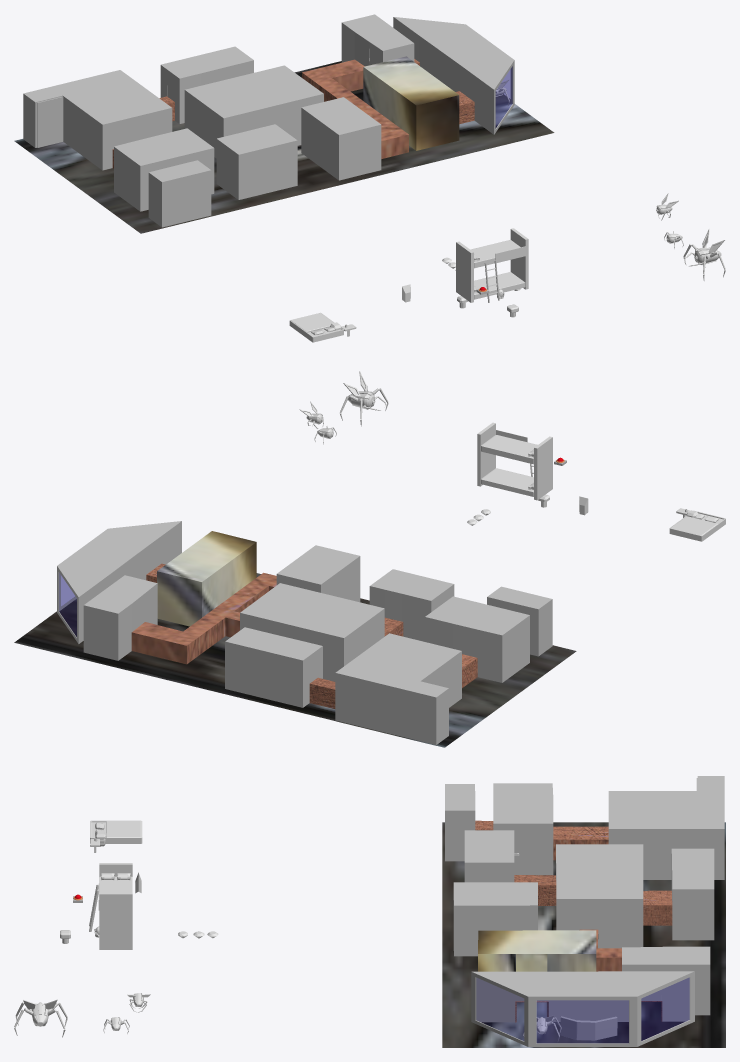
File: space no culling.fbx
3 renders of one model, top to bottom at view 1: azimuth 30°, elevation 25°; view 2: azimuth 150°, elevation 25°; view 3: azimuth 270°, elevation 25°, orthographic. The views are drawn at different scales.
Parts seen in each view (by area): view 1: floor, L room, main, frontroom.001, captain, small room big hall left, small room up main, room b4 reactor, reactor, small room under main, grote gang, samll room b4 front room (+3 smaller); view 2: L room, floor, main, captain, frontroom.001, room b4 reactor, small room under main, samll room b4 front room, grote gang, small room up main, small room big hall left, reactor (+4 smaller); view 3: floor, frontroom.001, main, L room, captain, small room big hall left, room b4 reactor, small room under main, window front, samll room b4 front room, small room up main, Cube.027 (+11 smaller).
Boxes of the visible parts, x1,y1,x2,y2 form: floor: [14, 61, 554, 233]; L room: [23, 70, 172, 170]; main: [184, 65, 323, 158]; frontroom.001: [393, 17, 514, 134]; captain: [363, 56, 459, 150]; small room big hall left: [301, 97, 381, 180]; small room up main: [216, 124, 297, 199]; room b4 reactor: [114, 128, 214, 211]; reactor: [148, 160, 211, 227]; small room under main: [160, 46, 253, 123]; grote gang: [302, 59, 408, 158]; samll room b4 front room: [341, 14, 414, 66]; L room: [335, 633, 461, 745]; floor: [14, 573, 576, 747]; main: [240, 583, 384, 681]; captain: [157, 531, 256, 626]; frontroom.001: [57, 521, 181, 643]; room b4 reactor: [425, 596, 529, 682]; small room under main: [225, 627, 322, 707]; samll room b4 front room: [83, 575, 157, 660]; grote gang: [131, 572, 276, 664]; small room up main: [369, 569, 454, 641]; small room big hall left: [276, 545, 360, 602]; reactor: [487, 586, 552, 656]; floor: [442, 822, 725, 1047]; frontroom.001: [471, 971, 694, 1046]; main: [556, 844, 643, 948]; L room: [608, 776, 724, 879]; captain: [478, 930, 596, 971]; small room big hall left: [453, 882, 537, 956]; room b4 reactor: [493, 783, 553, 874]; small room under main: [671, 848, 714, 940]; window front: [537, 1000, 628, 1042]; samll room b4 front room: [622, 946, 710, 1015]; small room up main: [464, 830, 514, 882]; Cube.027: [99, 863, 132, 949].
Size of the model in its own units: 9629 by 1339 by 12846.
